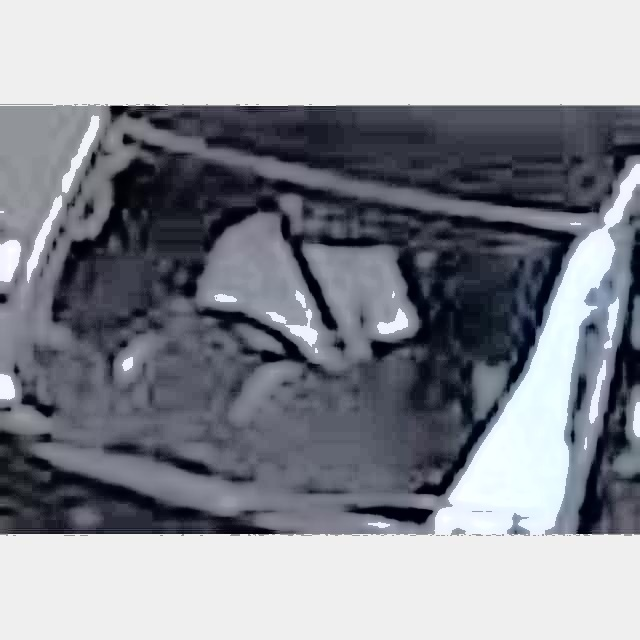pakai: (198, 202, 422, 394)
